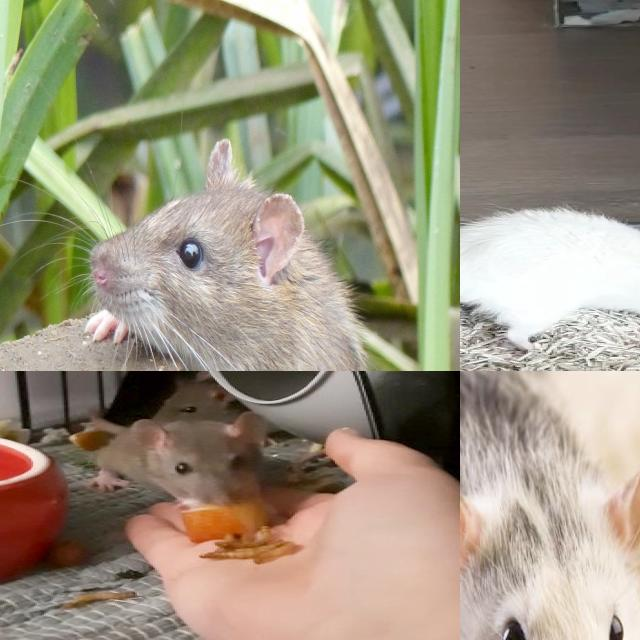rat: (86, 139, 424, 371), (460, 371, 640, 640), (460, 213, 640, 357), (94, 414, 269, 512)
